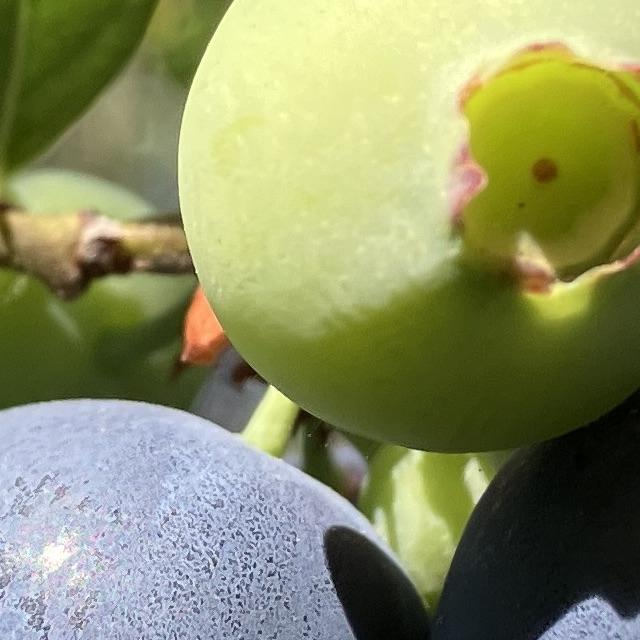Blueberries: (171, 0, 640, 452), (0, 391, 437, 640)
